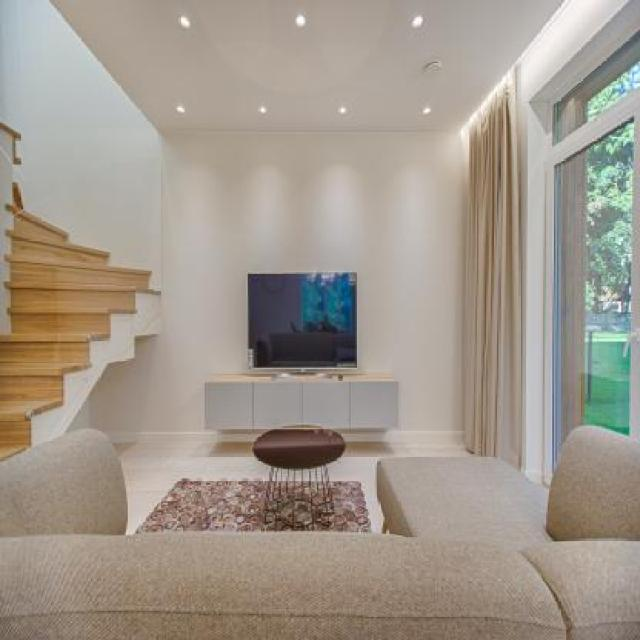floor: (109, 431, 268, 532), (331, 430, 469, 530)
